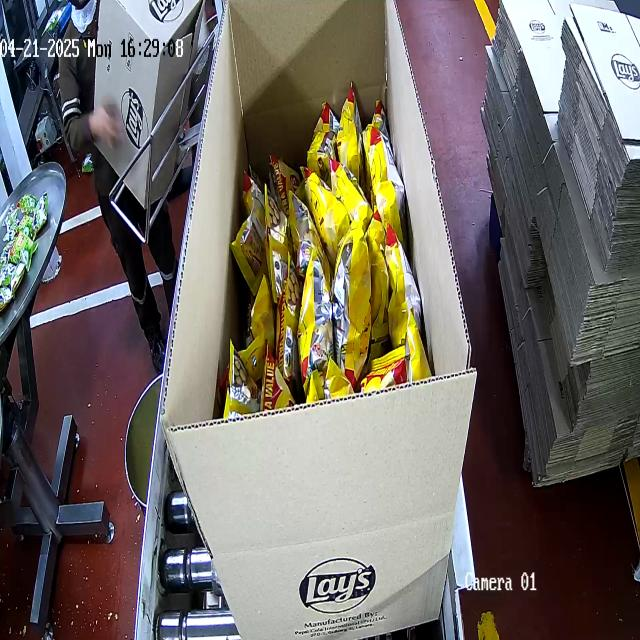SALTED: (227, 81, 425, 398)
